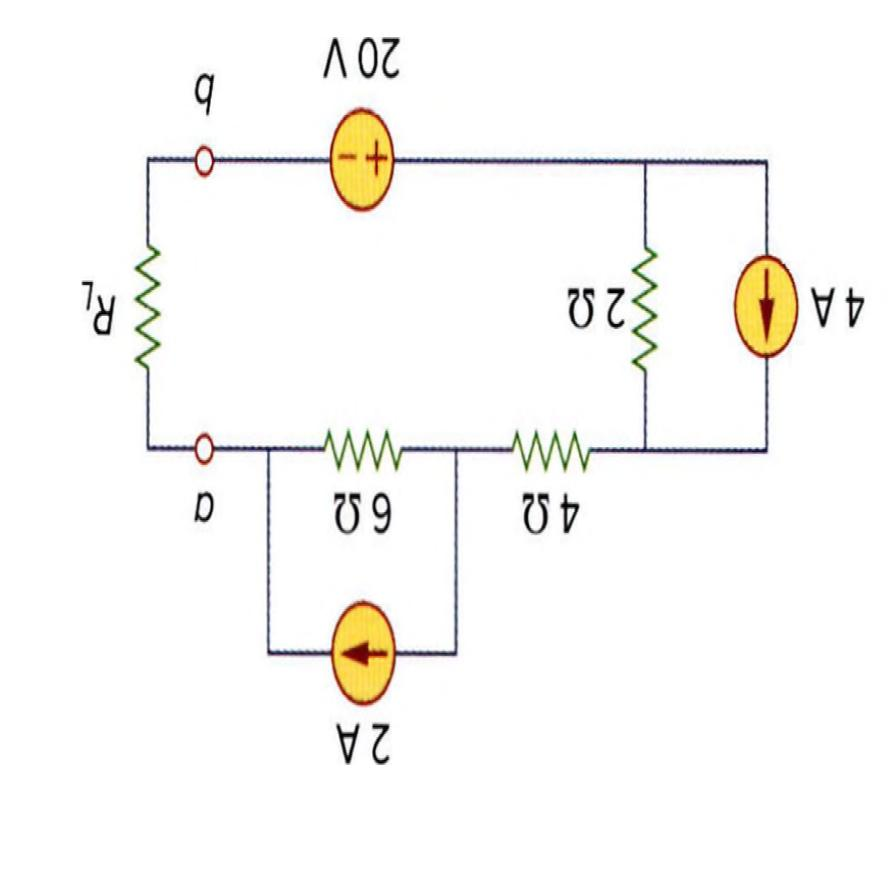I3: (732, 252, 801, 364)
I4: (325, 596, 397, 709)
V2: (326, 105, 396, 216)
